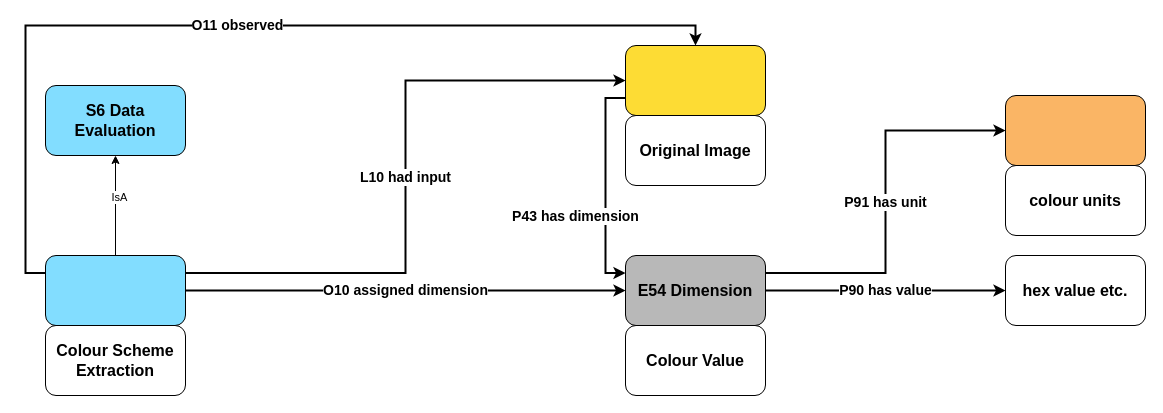
The diagram is 1163 pixels wide and 413 high, and some of its shapes have lost their labels. Each missing label, with the centre of its shape:
D1 Digital Obect: point 695,80
E58 Measurement Unit: point 1075,130
ZE17 Digital Reading: point 115,290
